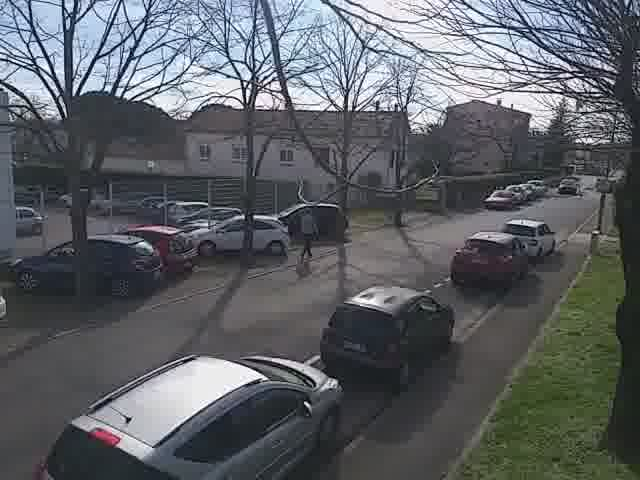persona: (294, 201, 325, 265)
